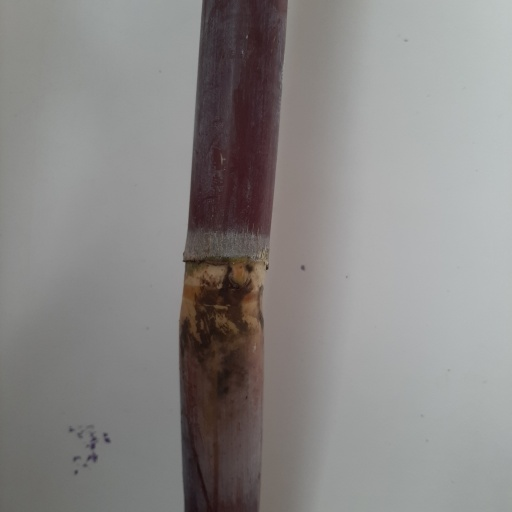Bud: (222, 263, 256, 293)
